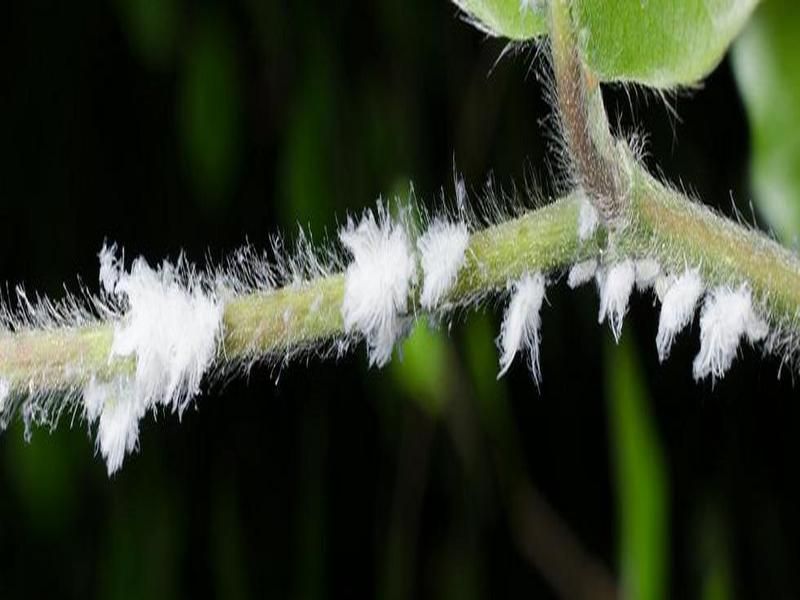Mealy_bug: (282, 197, 768, 379), (35, 248, 233, 477)
